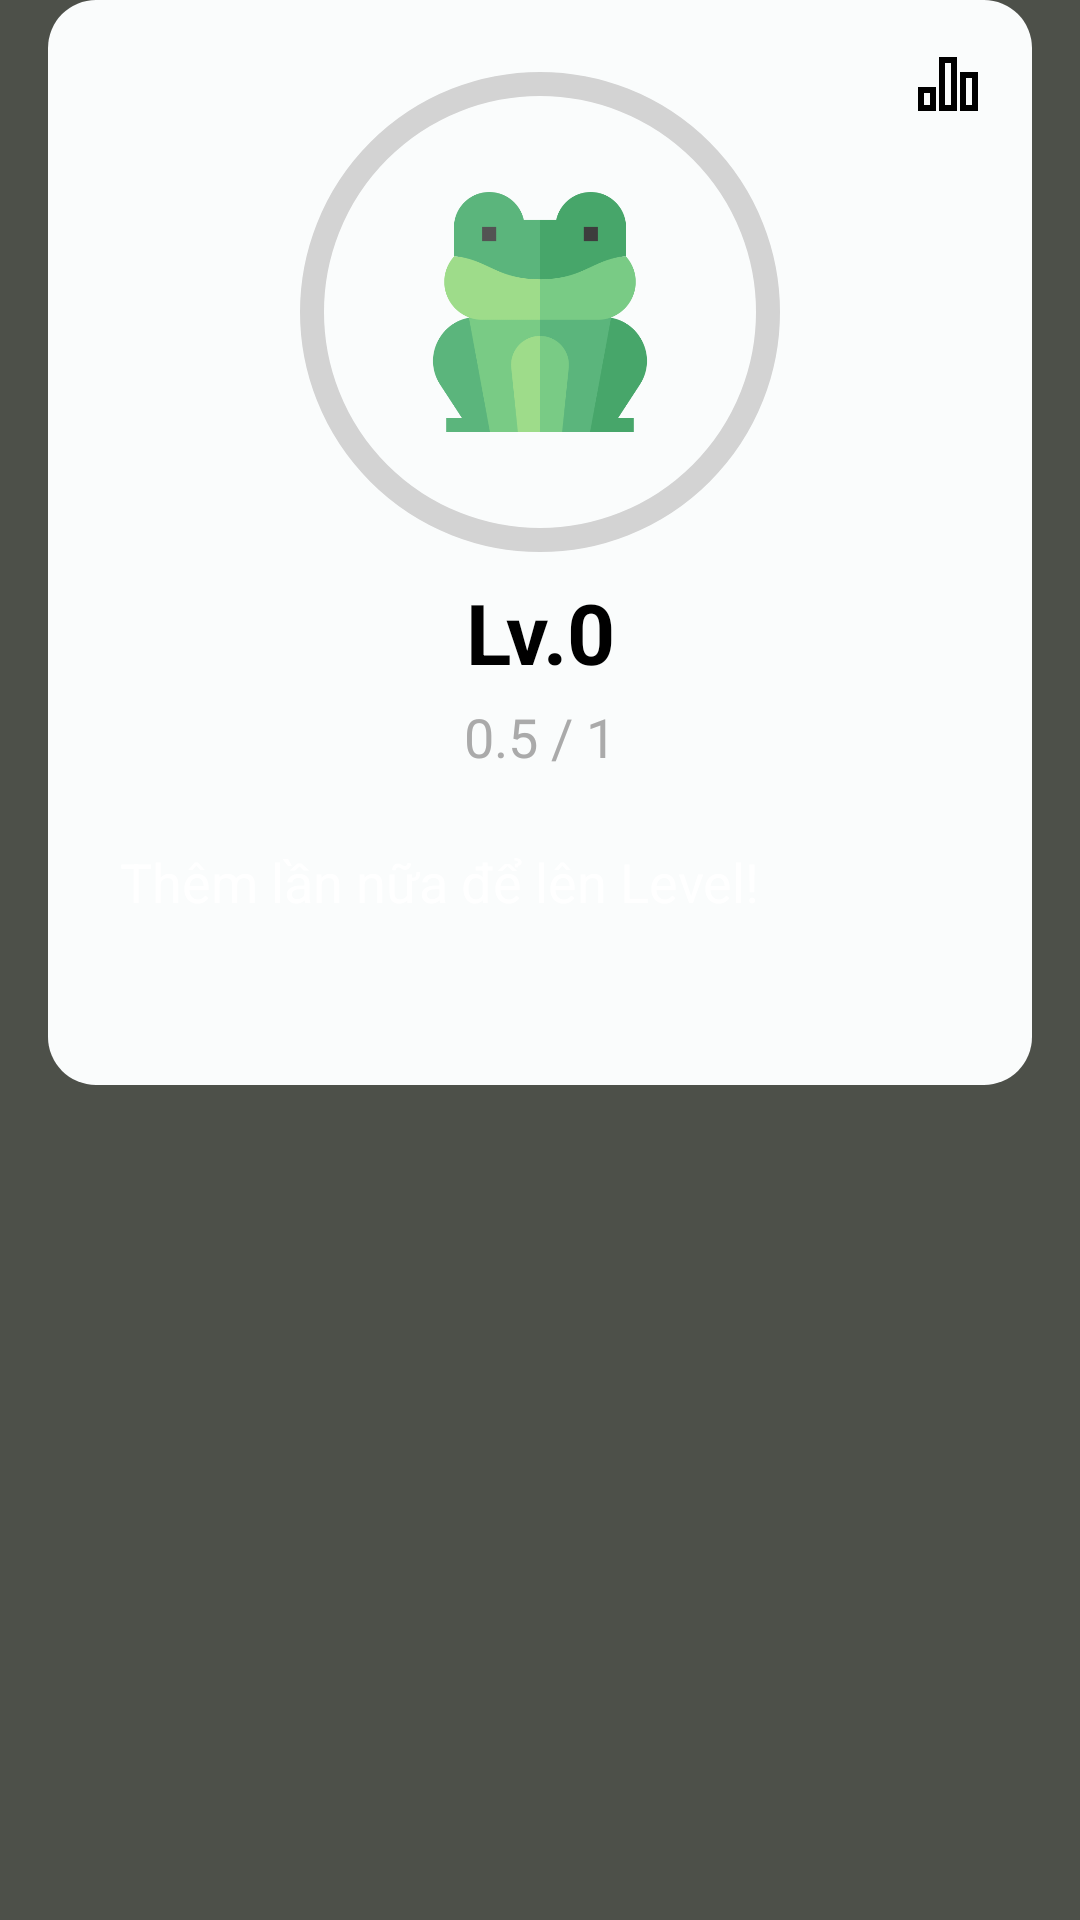

Icon bounding boxes for this 1080 × 1920 phone screenshot, format bbox=(x1, y1, x2, y2):
chart: bbox=(918, 57, 978, 111)
frogie: bbox=(433, 192, 647, 432)
